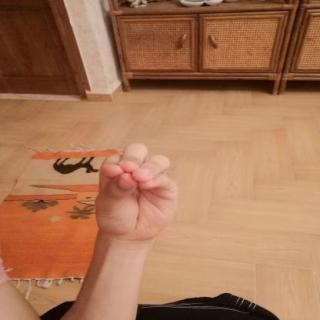HA: (82, 138, 193, 252)
